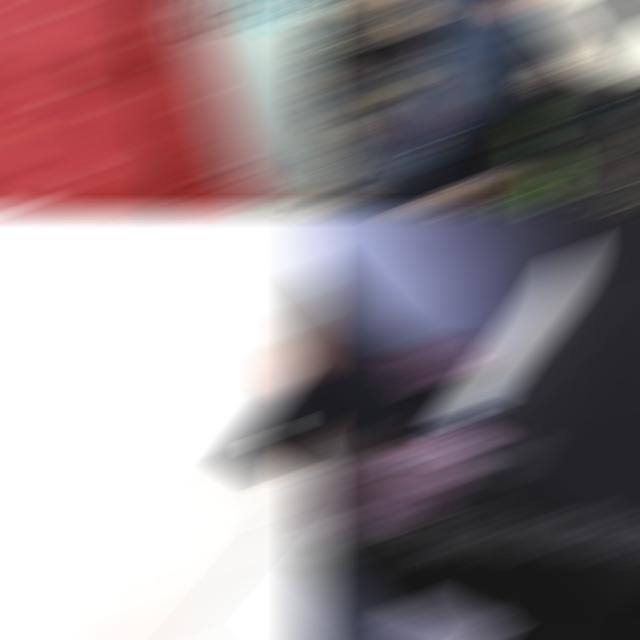Knife: (78, 382, 324, 636), (431, 245, 589, 426), (530, 4, 640, 75)
Knife_Handle: (13, 215, 324, 636), (302, 240, 613, 559), (436, 4, 640, 94)
